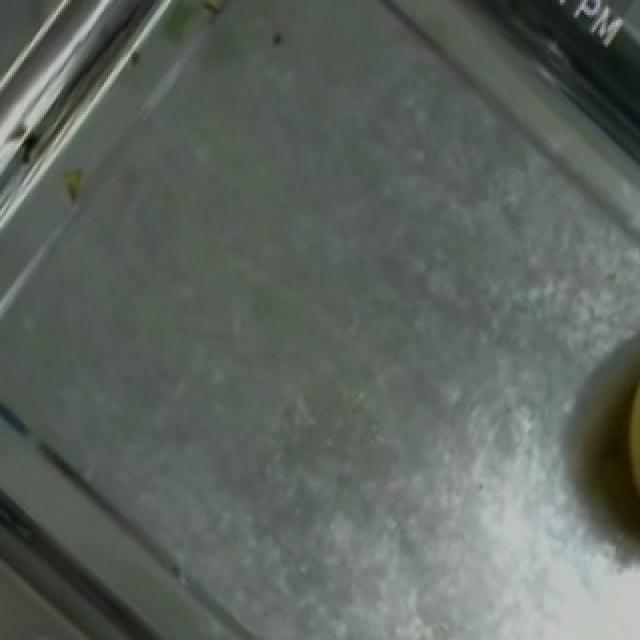fruit: (604, 302, 640, 570)
